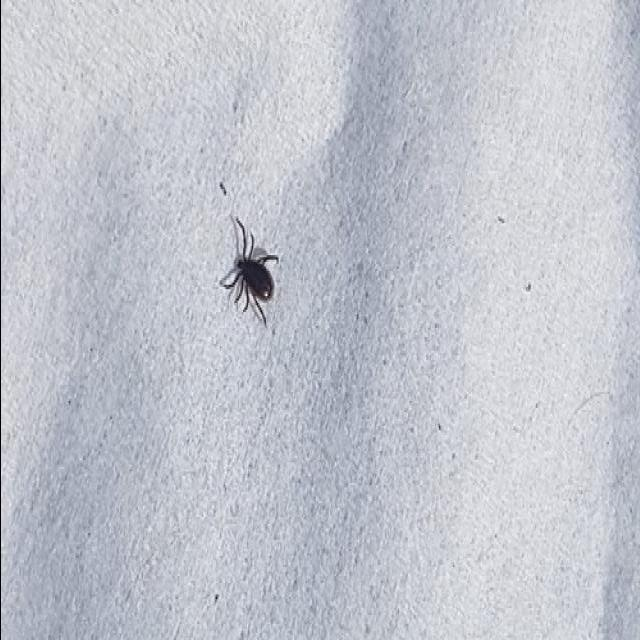Ixodes Ricinus-M: (215, 214, 278, 326)
